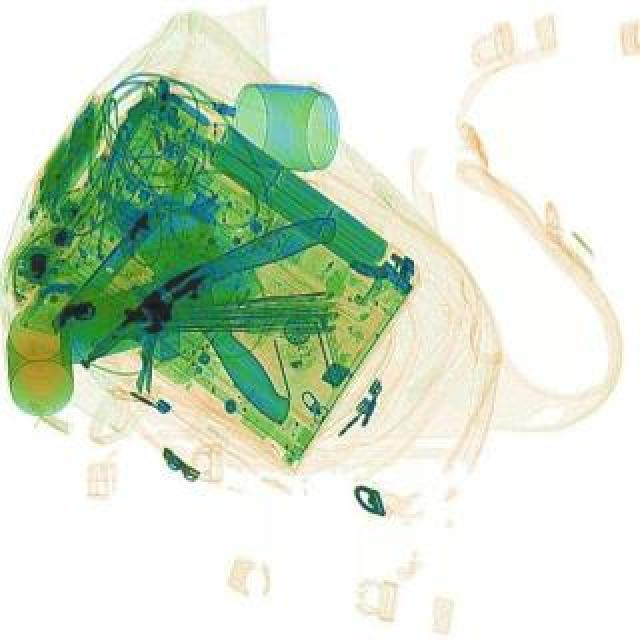knife: (114, 178, 336, 428), (40, 210, 356, 366)
